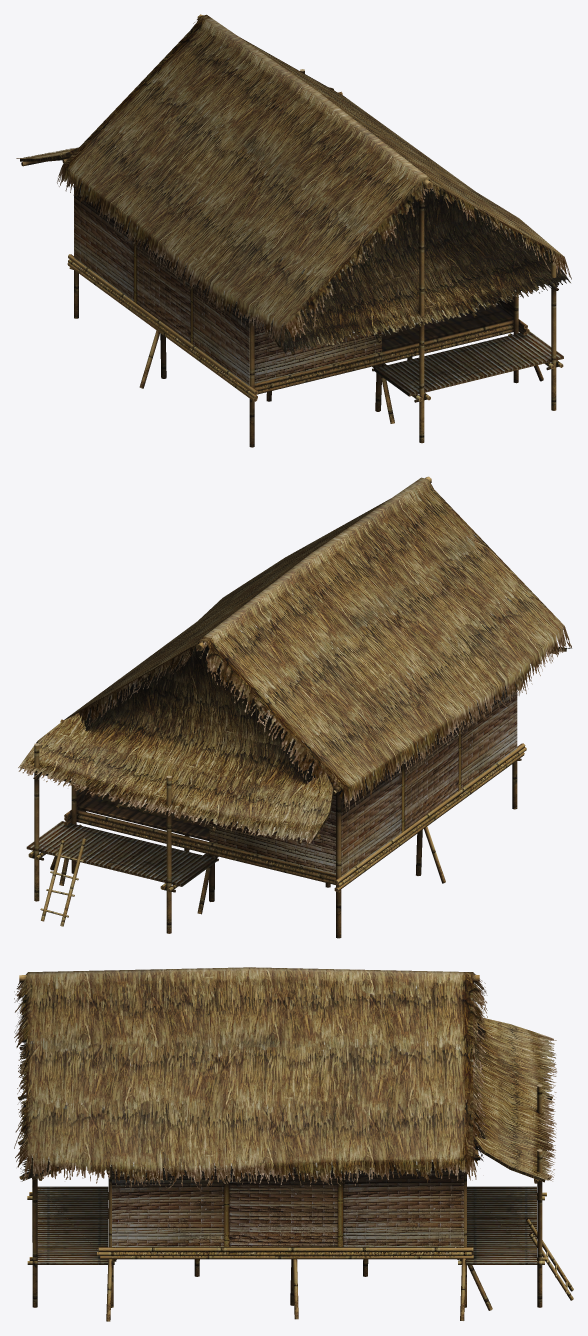
File: House 02.FBX
3 views of the same model, one above another, from view 1: azimuth 30°, elevation 25°; view 2: azimuth 150°, elevation 25°; view 3: azimuth 270°, elevation 25° (orthographic).
Visible parts, largest first — view 1: House 02; view 2: House 02; view 3: House 02.
Part boxes in pixels (x1,y1,x2,y2): House 02: (16,14,571,447); House 02: (18,476,571,938); House 02: (14,967,573,1321).
Bounding box in the file's own units: 56.71 × 47.91 × 87.65.
